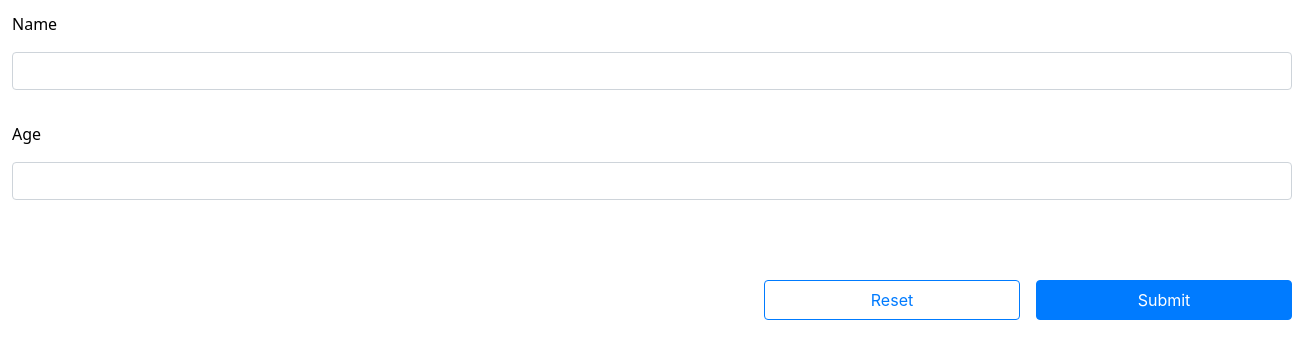
Scenario: Form › resets form when reset button is clicked
Type "Jane" into the field labelled "Name" at (652, 71), box [12,52,1292,90]
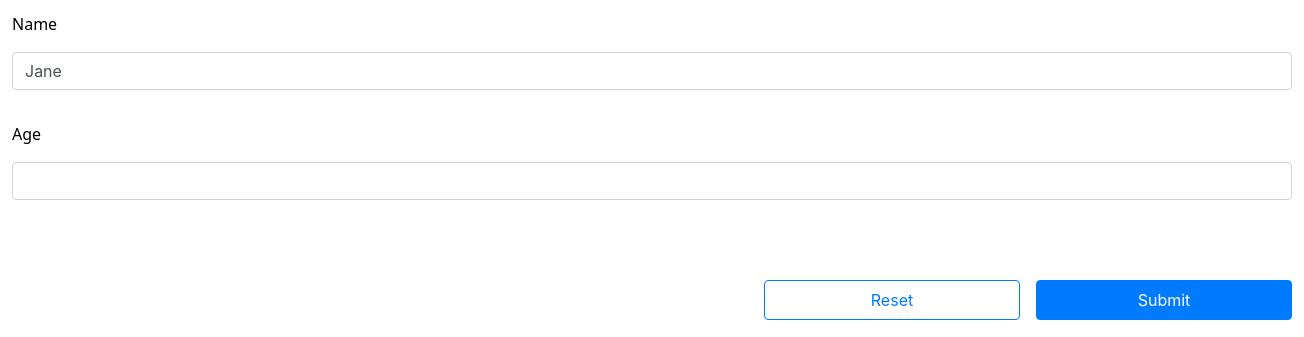
Click the button "Reset" at (892, 300), box [764,280,1020,320]
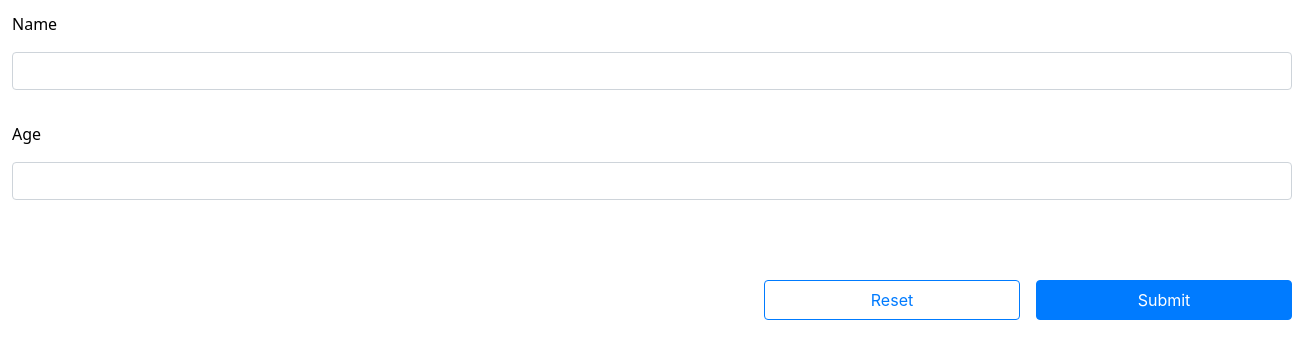
Expected: the field labelled "Name" is empty, [12,52,1292,90]
